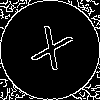X: (25, 25, 75, 80)
